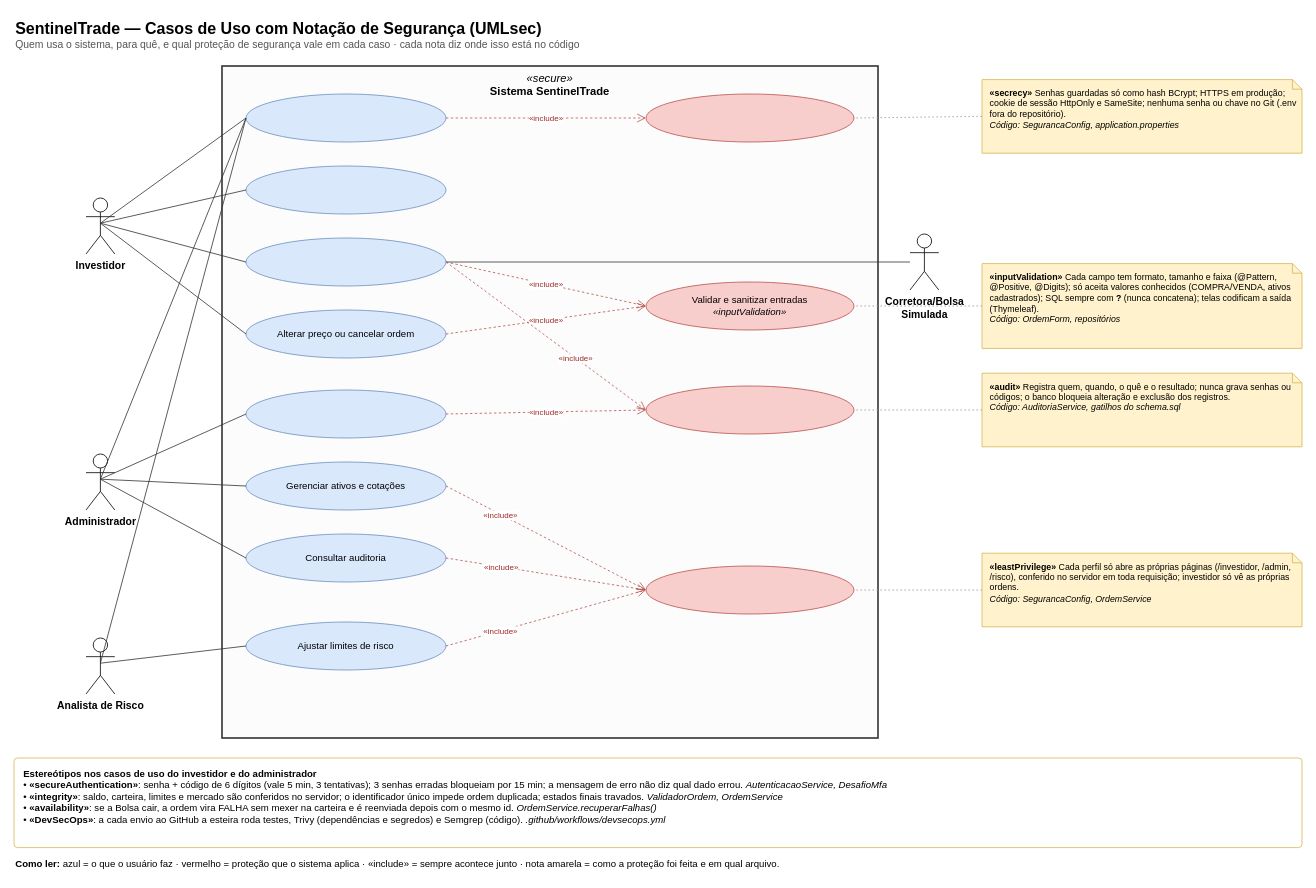
This 1316x888 diagram has some shape labels left out. Each missing label, with the centre of its shape:
Autenticar-se com MFA «secureAuthentication»: point (345, 117)
Autorizar por perfil «leastPrivilege»: point (749, 589)
Consultar carteira e cotações: point (345, 189)
Enviar ordem de compra ou venda «integrity»: point (345, 261)
Proteger dados «secrecy»: point (749, 117)
Recuperar ordens com falha «availability»: point (345, 413)
Registrar auditoria «audit»: point (749, 409)
